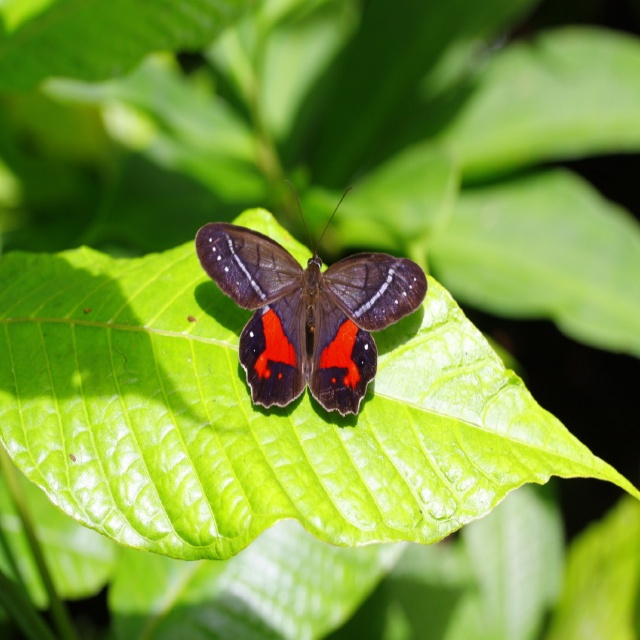Butterfly: (196, 179, 426, 416)
